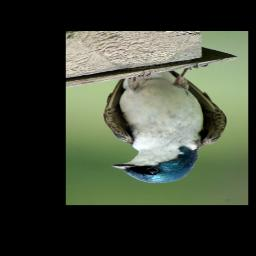Swallow: (102, 62, 227, 184)
